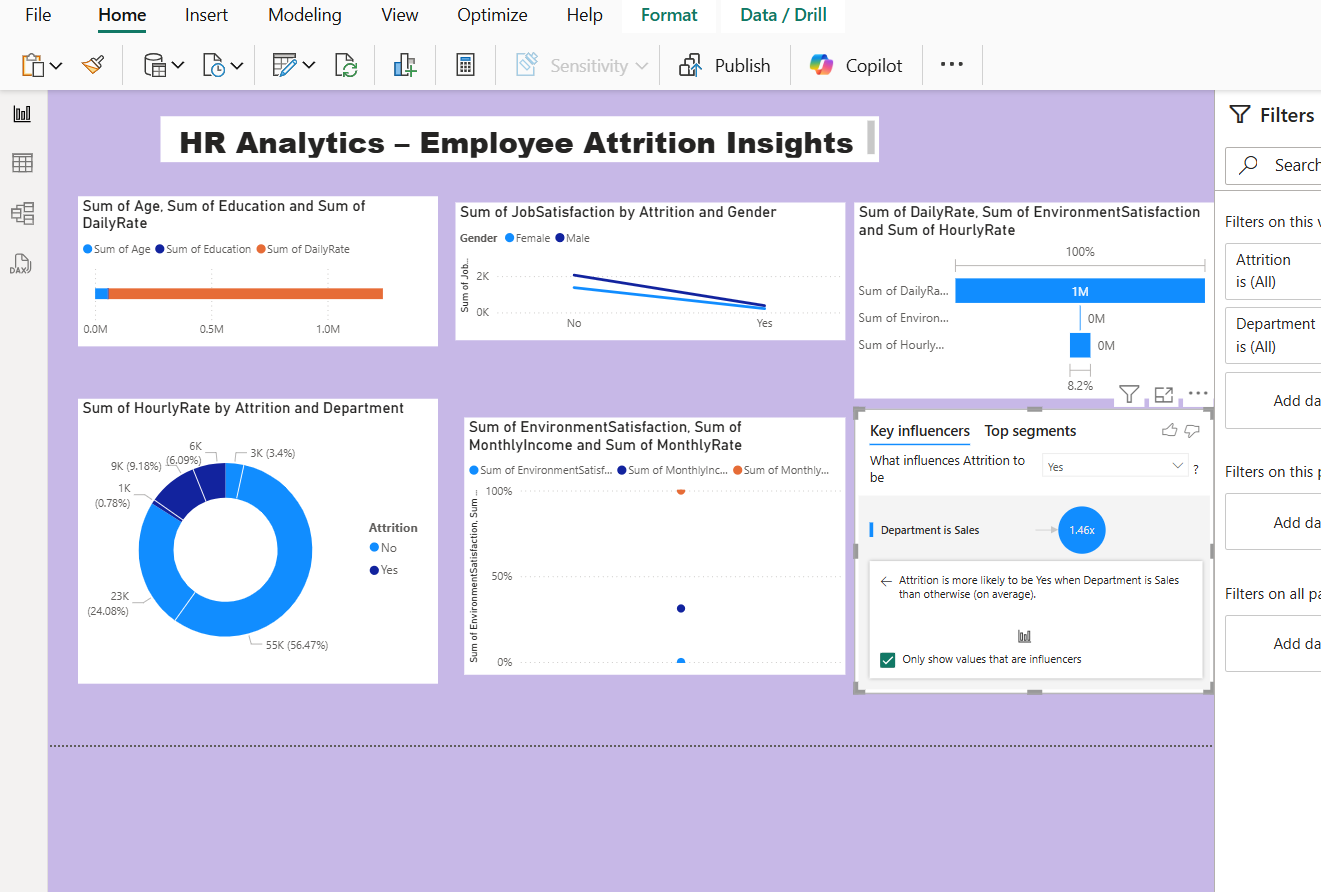

Layout of this report page (visuals, bound fields, positions):
{"tool":"powerbi","page":{"name":"Page 1","canvas":[1280,720],"ordinal":0},"visuals":[{"type":"textbox","box":[123.5,28.8,789,50.8],"z":1000},{"type":"barChart","fields":{"Y":["Sum(WA_Fn-UseC_-HR-Employee-Attrition.Age)","Sum(WA_Fn-UseC_-HR-Employee-Attrition.Education)","Sum(WA_Fn-UseC_-HR-Employee-Attrition.DailyRate)"]},"box":[32.9,116.6,395.2,164.7],"z":1001},{"type":"donutChart","fields":{"Category":["WA_Fn-UseC_-HR-Employee-Attrition.Attrition"],"Series":["WA_Fn-UseC_-HR-Employee-Attrition.Department"],"Y":["Sum(WA_Fn-UseC_-HR-Employee-Attrition.HourlyRate)"]},"box":[32.9,338.9,395.2,312.9],"z":1002},{"type":"lineChart","fields":{"Category":["WA_Fn-UseC_-HR-Employee-Attrition.Attrition"],"Y":["Sum(WA_Fn-UseC_-HR-Employee-Attrition.JobSatisfaction)"],"Series":["WA_Fn-UseC_-HR-Employee-Attrition.Gender"]},"box":[447.3,123.5,428.1,150.9],"z":1003},{"type":"hundredPercentStackedAreaChart","fields":{"Y":["Sum(WA_Fn-UseC_-HR-Employee-Attrition.EnvironmentSatisfaction)","Sum(WA_Fn-UseC_-HR-Employee-Attrition.MonthlyIncome)","Sum(WA_Fn-UseC_-HR-Employee-Attrition.MonthlyRate)"]},"box":[456.9,359.5,418.5,282.7],"z":1004},{"type":"funnel","fields":{"Y":["Sum(WA_Fn-UseC_-HR-Employee-Attrition.DailyRate)","Sum(WA_Fn-UseC_-HR-Employee-Attrition.EnvironmentSatisfaction)","Sum(WA_Fn-UseC_-HR-Employee-Attrition.HourlyRate)"]},"box":[885.1,123.5,395.2,215.4],"z":1005},{"type":"keyDriversVisual","fields":{"Target":["WA_Fn-UseC_-HR-Employee-Attrition.Attrition"],"ExplainBy":["WA_Fn-UseC_-HR-Employee-Attrition.Department","Sum(WA_Fn-UseC_-HR-Employee-Attrition.DistanceFromHome)"]},"box":[885.1,349.9,395.2,312.9],"z":1006}]}

Visuals, with their boxes on the page's 1280x720 design canvas (x1, y1, x2, y2). These are canvas units, not pixel positions in the 1321x892 screenshot, which may show the page scaled, cropped or inside an application window:
textbox: Rect(124, 29, 912, 80)
barChart - Sum(WA_Fn-UseC_-HR-Employee-Attrition.Age) x Sum(WA_Fn-UseC_-HR-Employee-Attrition.Education): Rect(33, 117, 428, 281)
donutChart - WA_Fn-UseC_-HR-Employee-Attrition.Attrition x WA_Fn-UseC_-HR-Employee-Attrition.Department: Rect(33, 339, 428, 652)
lineChart - WA_Fn-UseC_-HR-Employee-Attrition.Attrition x Sum(WA_Fn-UseC_-HR-Employee-Attrition.JobSatisfaction): Rect(447, 124, 875, 274)
hundredPercentStackedAreaChart - Sum(WA_Fn-UseC_-HR-Employee-Attrition.EnvironmentSatisfaction) x Sum(WA_Fn-UseC_-HR-Employee-Attrition.MonthlyIncome): Rect(457, 360, 875, 642)
funnel - Sum(WA_Fn-UseC_-HR-Employee-Attrition.DailyRate) x Sum(WA_Fn-UseC_-HR-Employee-Attrition.EnvironmentSatisfaction): Rect(885, 124, 1280, 339)
keyDriversVisual - WA_Fn-UseC_-HR-Employee-Attrition.Attrition x WA_Fn-UseC_-HR-Employee-Attrition.Department: Rect(885, 350, 1280, 663)
